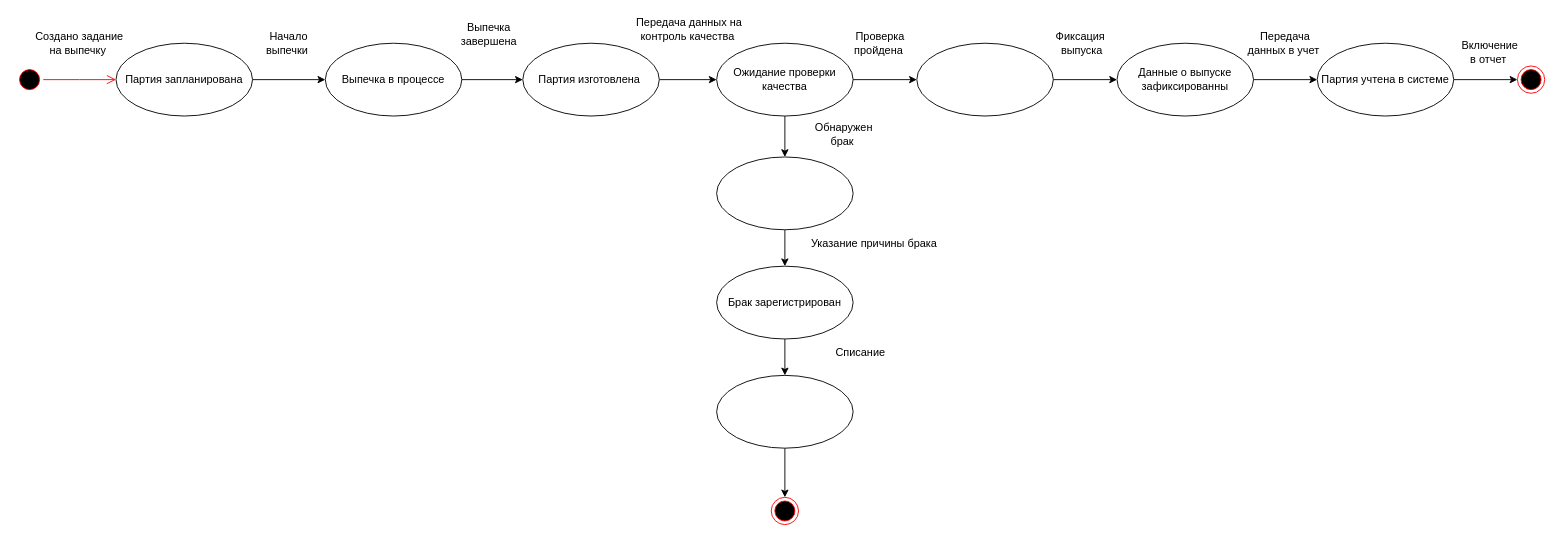
This 1561x541 diagram has some shape labels left out. Each missing label, with the box of its shape:
Брак обнаружен: (716, 156, 853, 230)
Партия принята: (916, 42, 1053, 116)
Партия списана: (716, 374, 853, 448)
